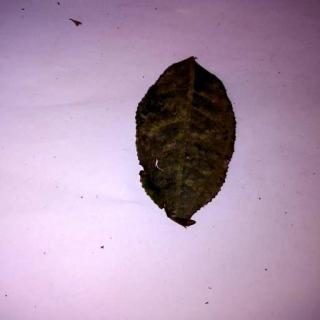Anthracnose: (135, 58, 237, 233)
